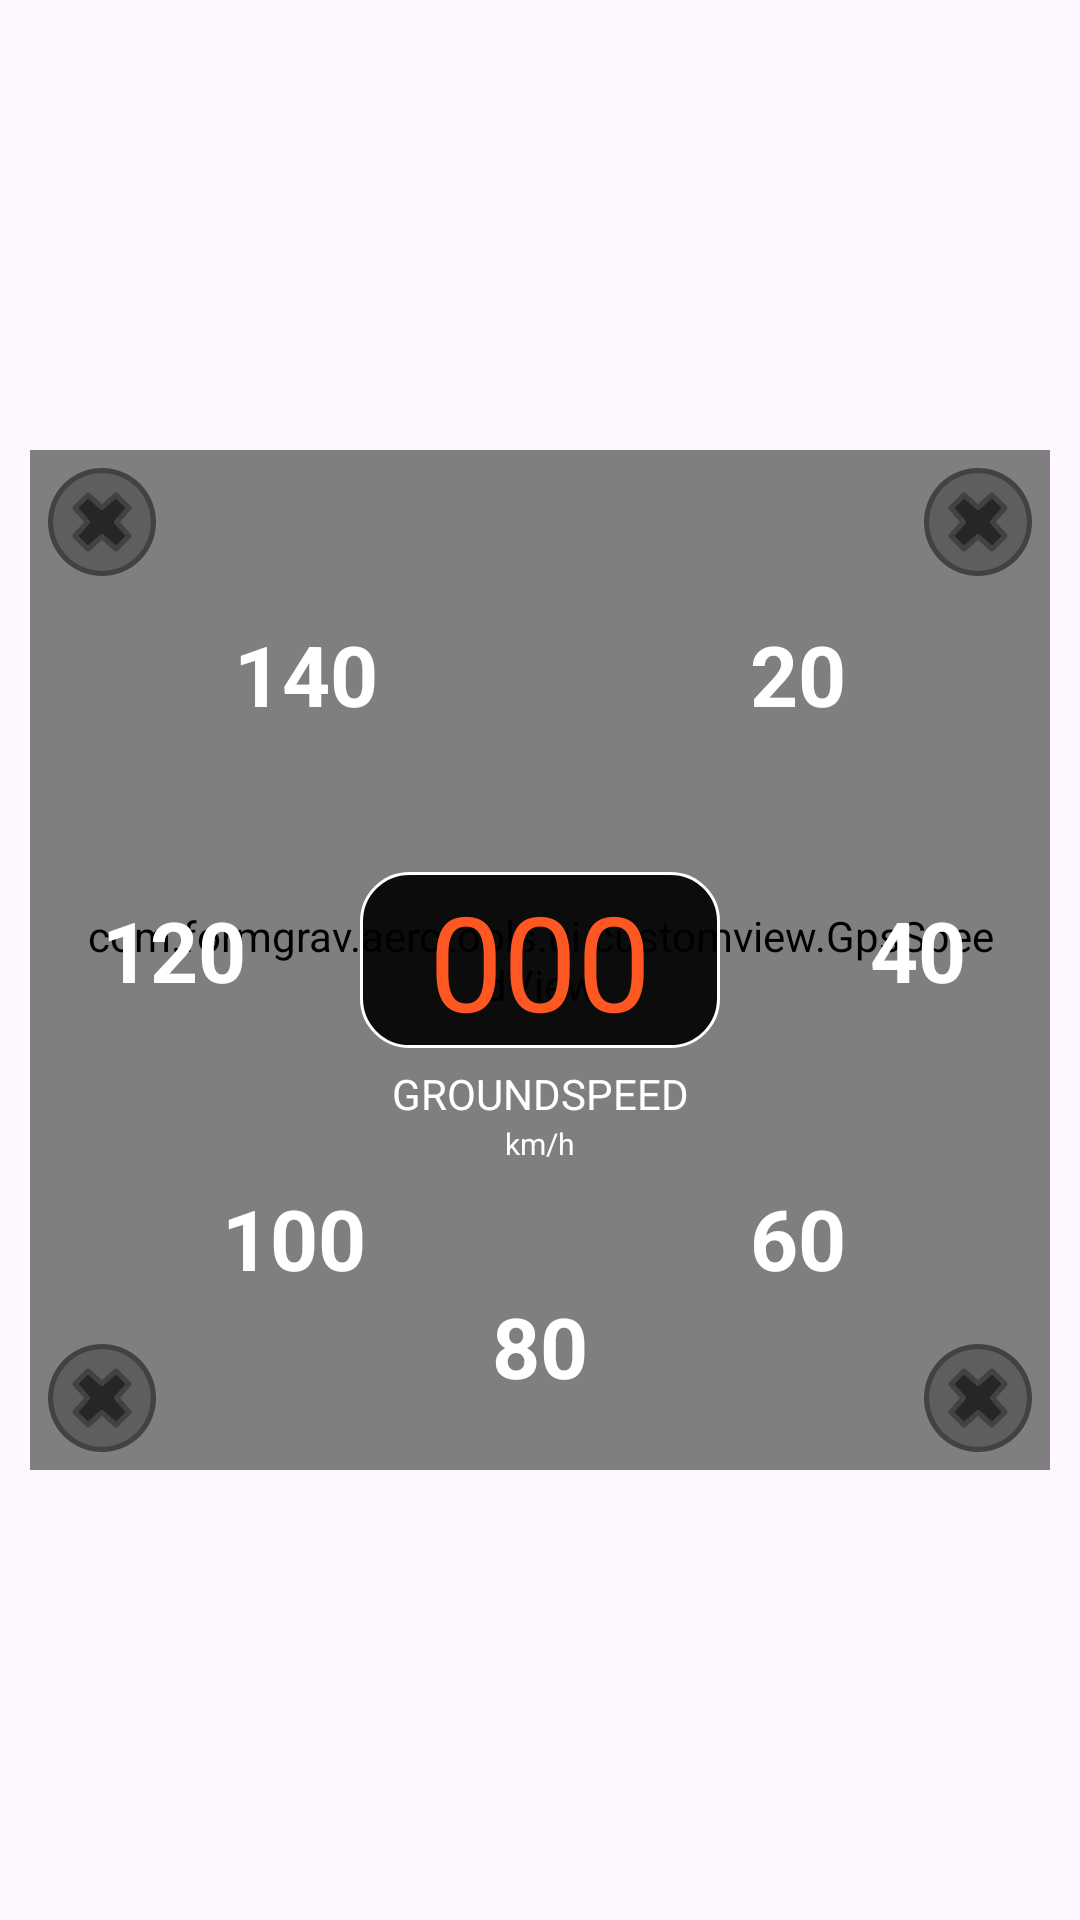

Icons on this 1080*1920 Android screen, each with its box as (x1, y1, x2, y2):
screw: (48, 468, 156, 576), (924, 468, 1032, 576), (48, 1344, 156, 1452), (924, 1344, 1032, 1452)
